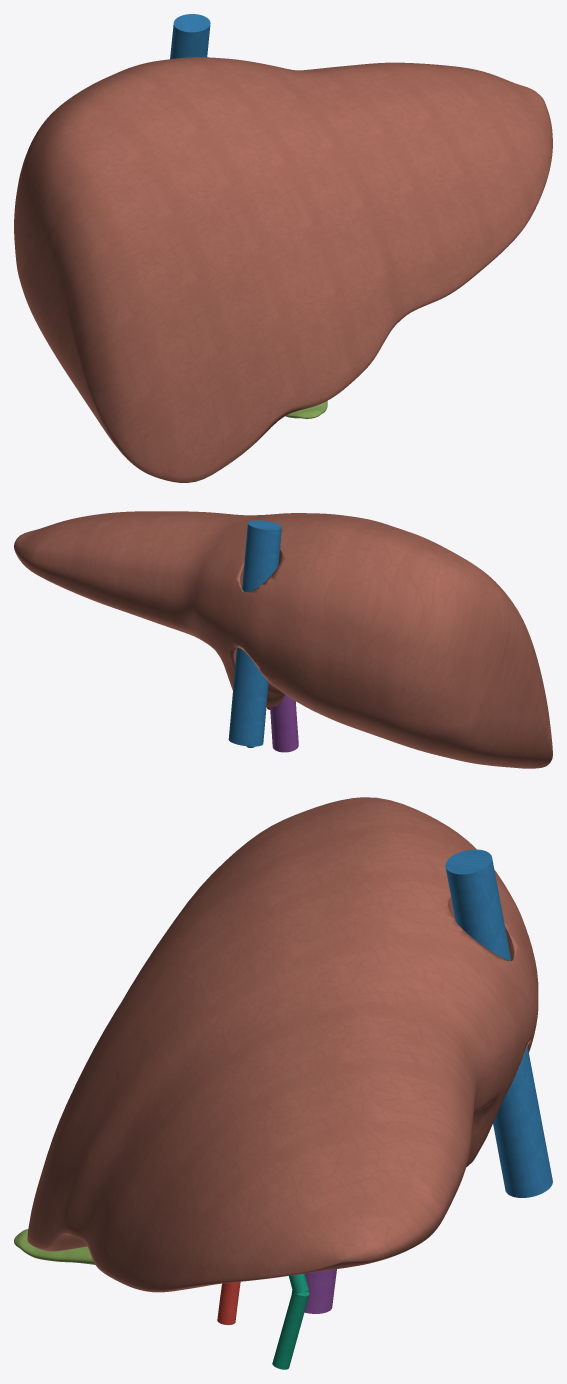
File: whole.glb
3 views of the same model, one above another, from view 1: azimuth 30°, elevation 25°; view 2: azimuth 150°, elevation 25°; view 3: azimuth 270°, elevation 25° (orthographic). The views are drawn at different scales.
Parts seen in each view (by area): view 1: Liver, HV.Inferior vena cava; view 2: Liver, HV.Inferior vena cava, PV.Portal vein; view 3: Liver, HV.Inferior vena cava, BIL.Common bile duct, PV.Portal vein, Gallbladder, HA.Proper hepatic artery.
Boxes of the visible parts, x1=… form: Liver: x1=14, y1=57, x2=552, y2=482; HV.Inferior vena cava: x1=170, y1=14, x2=210, y2=59; Liver: x1=14, y1=511, x2=552, y2=768; HV.Inferior vena cava: x1=228, y1=520, x2=281, y2=746; PV.Portal vein: x1=270, y1=694, x2=298, y2=752; Liver: x1=27, y1=797, x2=538, y2=1292; HV.Inferior vena cava: x1=445, y1=849, x2=552, y2=1197; BIL.Common bile duct: x1=272, y1=1291, x2=309, y2=1369; PV.Portal vein: x1=291, y1=1269, x2=336, y2=1313; Gallbladder: x1=14, y1=1229, x2=95, y2=1264; HA.Proper hepatic artery: x1=217, y1=1281, x2=240, y2=1325.
Size of the model in its own units: 0.243 by 0.1473 by 0.1498.
Materials: 6 (6 with a texture image).
